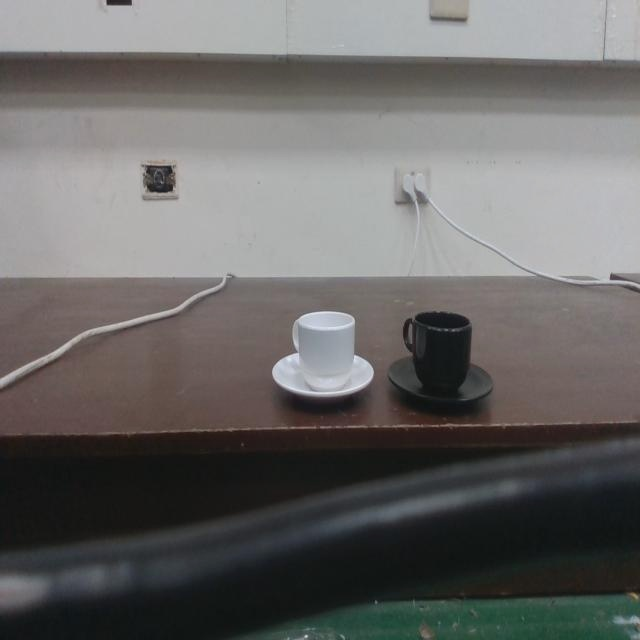black: (386, 307, 494, 413)
white: (269, 306, 377, 409)
